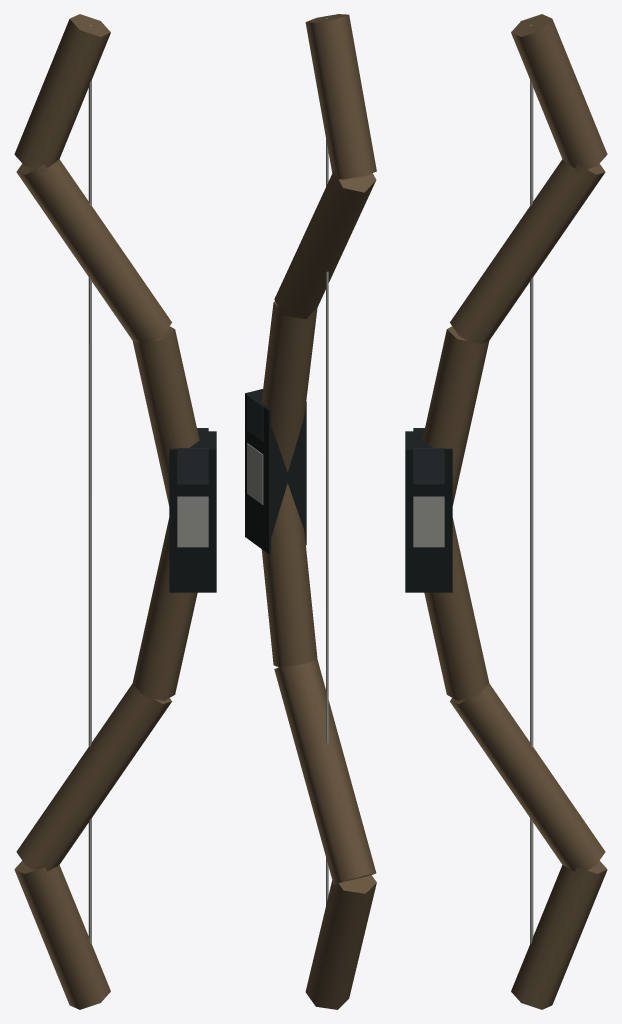
3 renders of one model, left to right at view 1: azimuth 90°, elevation 25°; view 2: azimuth 210°, elevation 25°; view 3: azimuth 270°, elevation 25°, orthographic.
Parts seen in each view (by area): view 1: weapon-bow-painted; view 2: weapon-bow-painted; view 3: weapon-bow-painted.
Boxes of the visible parts, bbox=[...] form: weapon-bow-painted: bbox=[14, 14, 216, 1009]; weapon-bow-painted: bbox=[245, 14, 376, 1009]; weapon-bow-painted: bbox=[405, 14, 607, 1009].
Bounding box in the file's own units: 0.3142 × 7.11 × 1.32.
